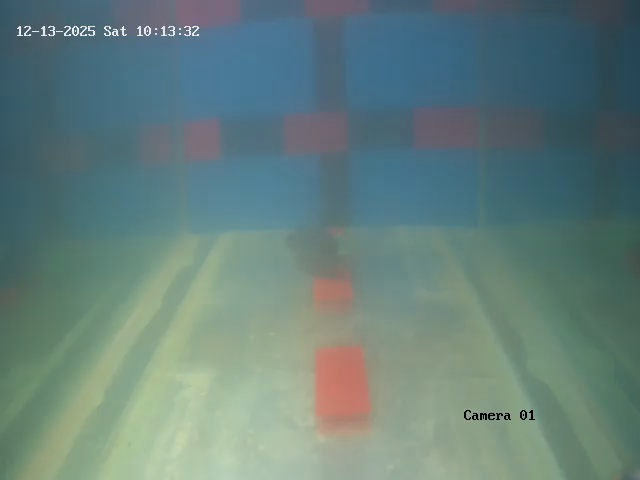fish: (277, 224, 360, 273)
